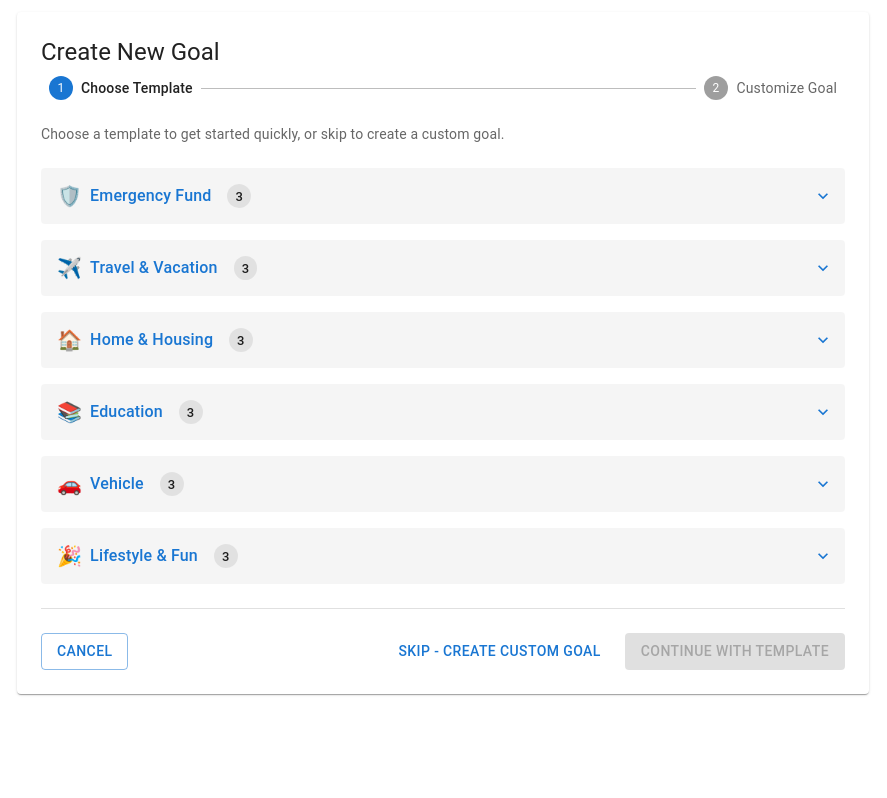
Test: GoalForm › template selection step › allows skipping to custom goal
What coordinates should you click on to do the following:
click the button "Skip - Create Custom Goal"
I would click on:
 (500, 652)
Its box is [390, 633, 609, 670].
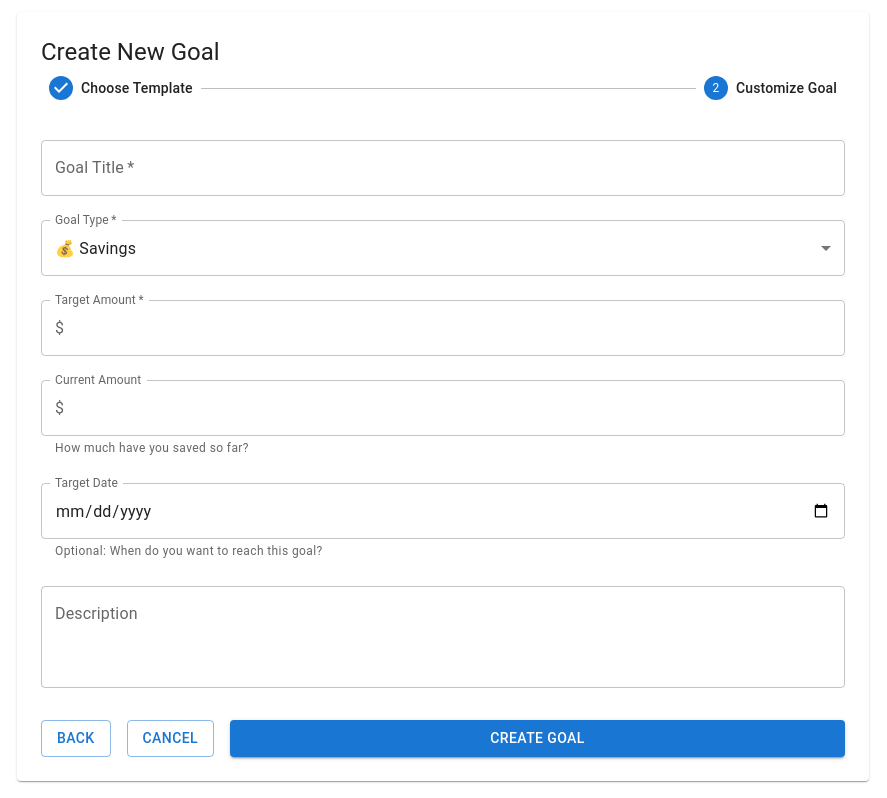
Expected: the field labelled "Goal Title *" is shown, [41, 140, 845, 196]
